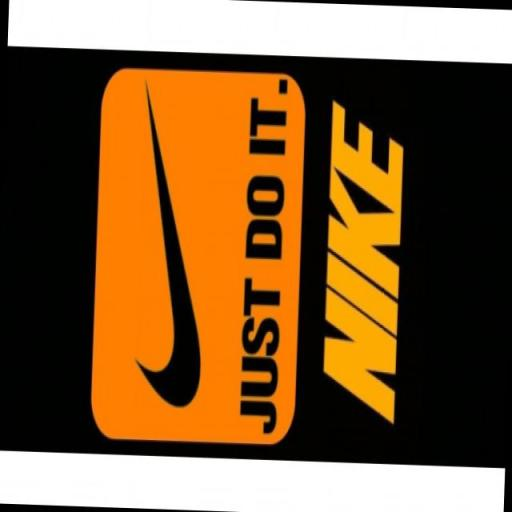Nike: (124, 78, 223, 419)
